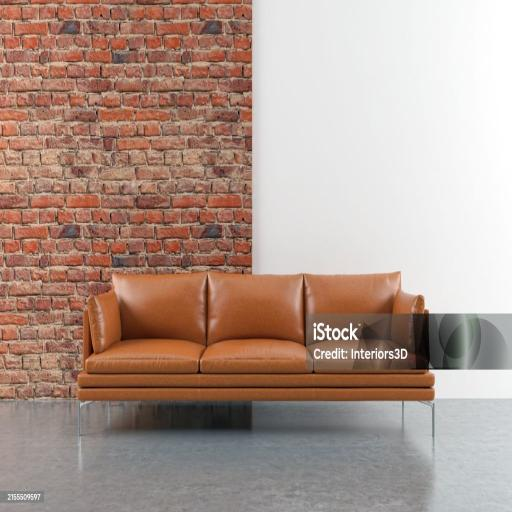back_cushion: (113, 272, 423, 347)
base: (79, 373, 434, 399)
left_arm: (420, 310, 429, 363)
legs: (78, 401, 92, 436), (420, 401, 434, 436), (402, 401, 404, 413)
right_arm: (84, 310, 92, 367)
seat_cushion: (86, 334, 427, 385)
stallion-sofa: (78, 272, 434, 435)
